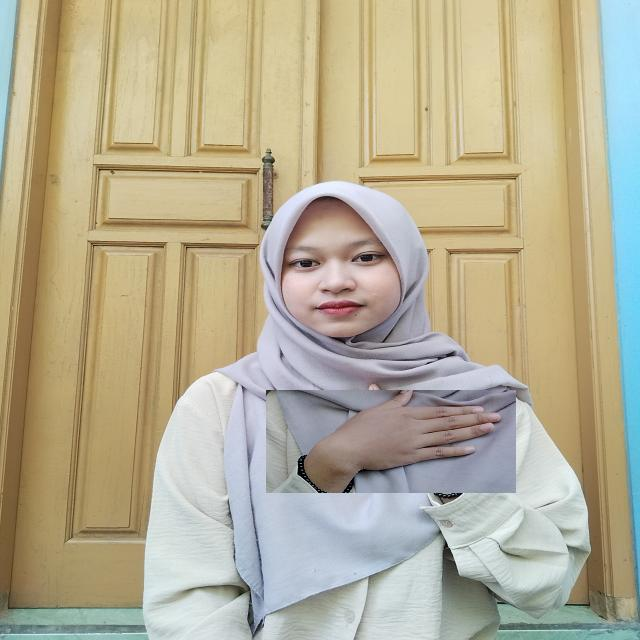tolong: (266, 390, 516, 493)
